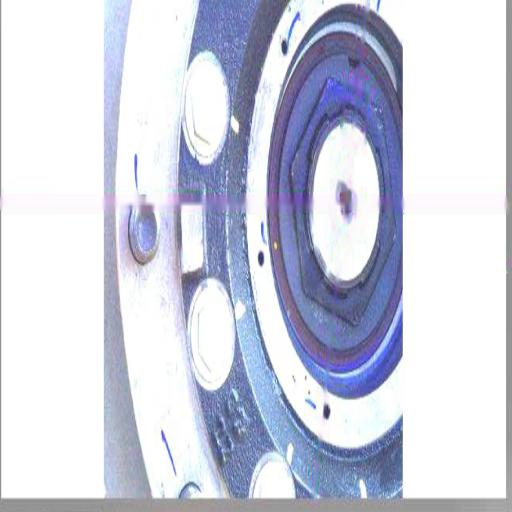center: (338, 188, 356, 229)
notch: (343, 50, 363, 78)
